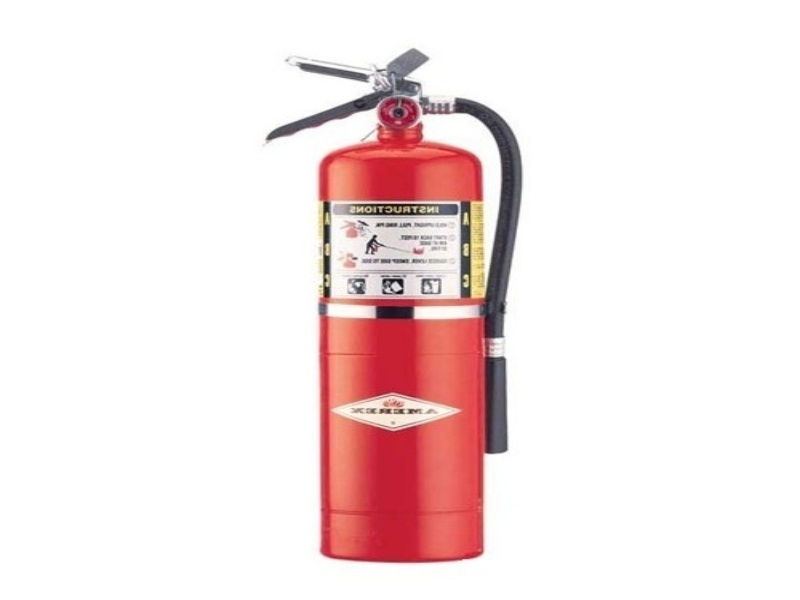fire_extinguisher: (240, 32, 563, 569)
